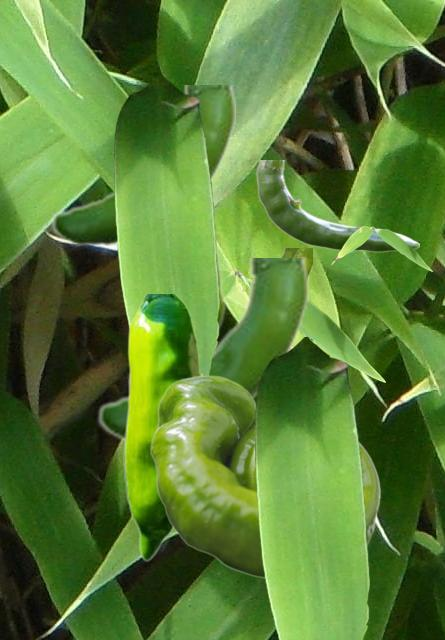green_chili: (150, 375, 379, 578), (96, 258, 307, 442), (50, 85, 234, 247), (123, 294, 201, 560), (256, 160, 418, 251), (280, 248, 311, 280), (217, 235, 226, 339)
